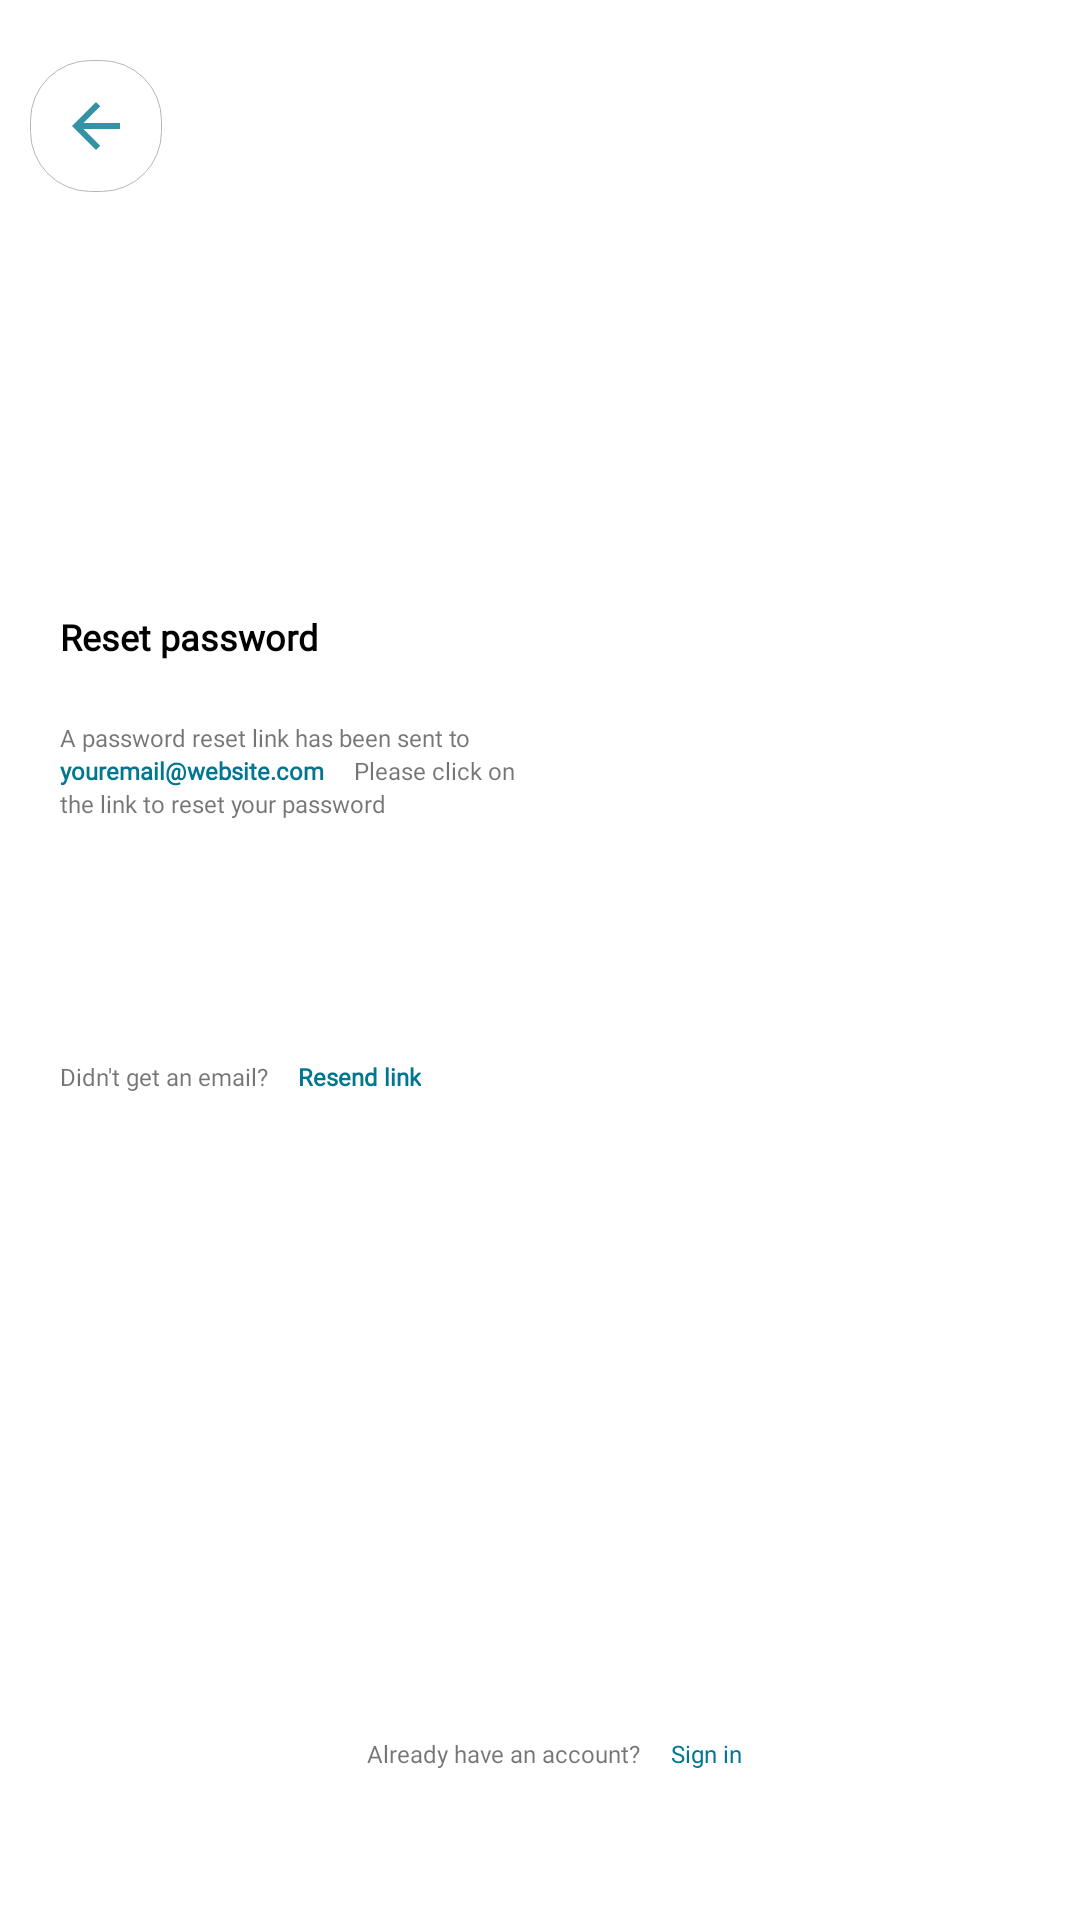

Where icons sit on this 1080 x 1920 app screen, as (x1, y1, x2, y2):
arrow back: (72, 102, 120, 150)
